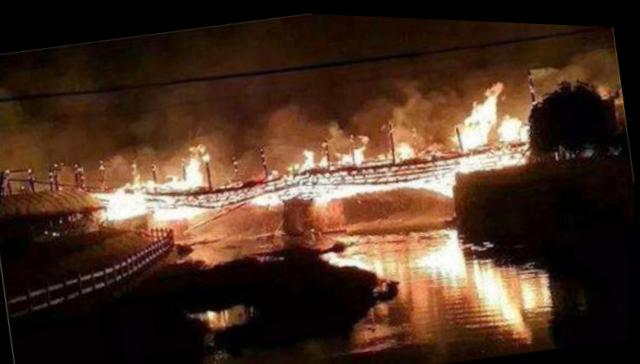fire: (82, 55, 541, 251)
